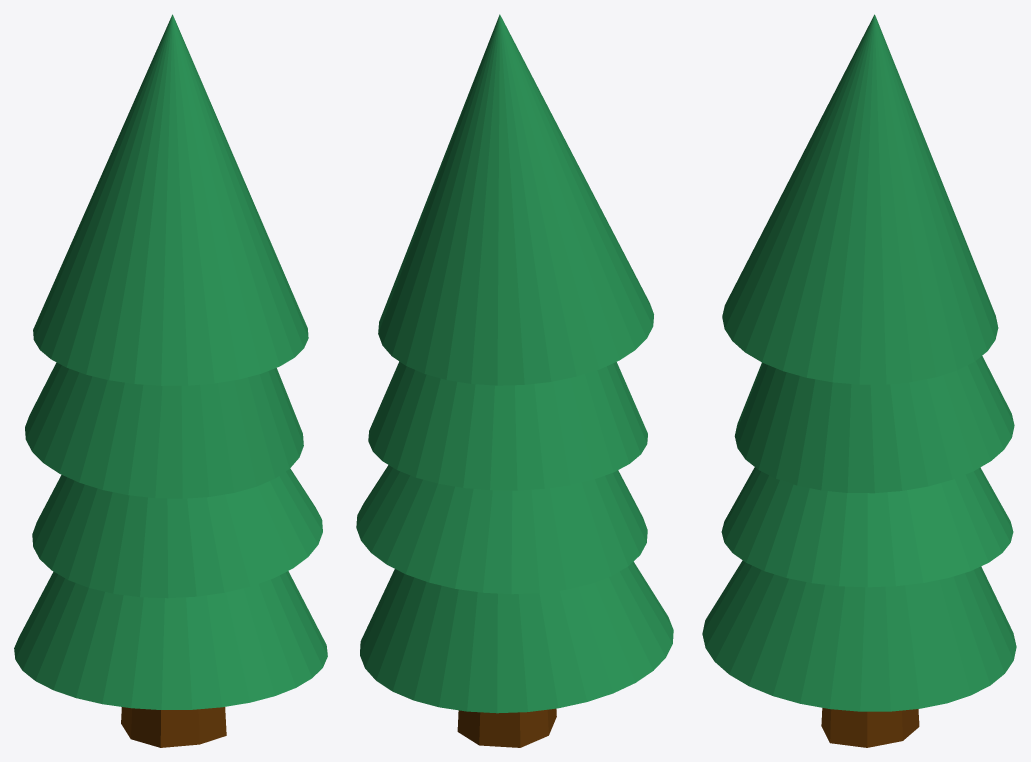
The model's file is tree_6.fbx.
The picture shows the model from 3 angles, left to right: view 1: azimuth 30°, elevation 25°; view 2: azimuth 150°, elevation 25°; view 3: azimuth 270°, elevation 25°; orthographic projection.
Visible parts, largest first — view 1: tree_6; view 2: tree_6; view 3: tree_6.
Boxes of the visible parts, left/top/right/bottom form: tree_6: left=14, top=14, right=327, bottom=747; tree_6: left=356, top=14, right=673, bottom=747; tree_6: left=702, top=14, right=1016, bottom=747.
Bounding box in the file's own units: 609 × 1520 × 606.
